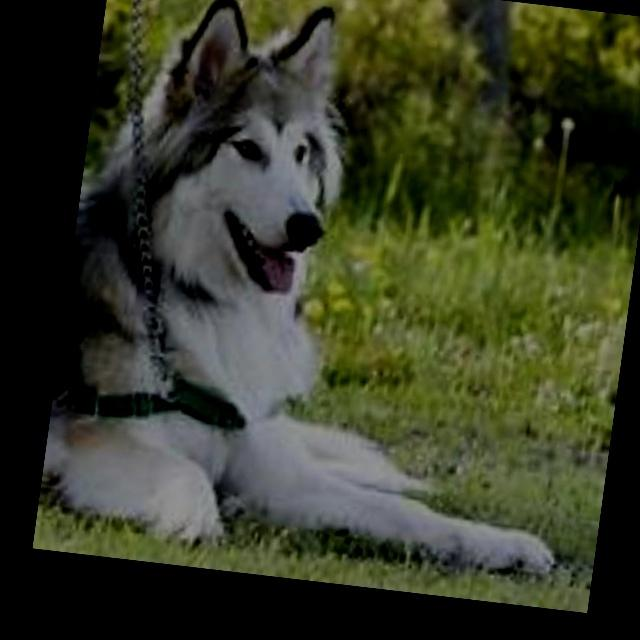dog: (33, 0, 544, 599), (32, 0, 112, 549)
